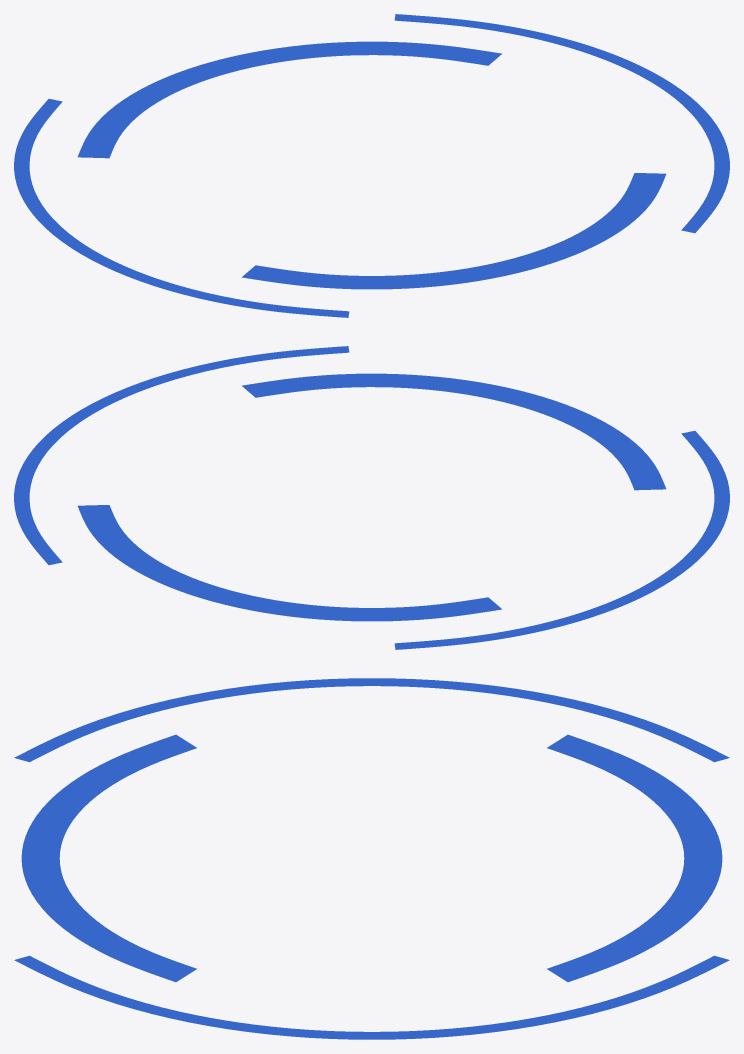
Rendered from gizmo_Selected.fbx.
3 views of the same model, one above another, from view 1: azimuth 30°, elevation 25°; view 2: azimuth 150°, elevation 25°; view 3: azimuth 270°, elevation 25° (orthographic). The views are drawn at different scales.
Visible parts, largest first — view 1: SelectedGizmo; view 2: SelectedGizmo; view 3: SelectedGizmo.
Part boxes in pixels (<box>): SelectedGizmo: <box>14,14,729,317</box>; SelectedGizmo: <box>14,346,729,649</box>; SelectedGizmo: <box>14,678,729,1039</box>.
Bounding box in the file's own units: 120 × 0.0809 × 101.
